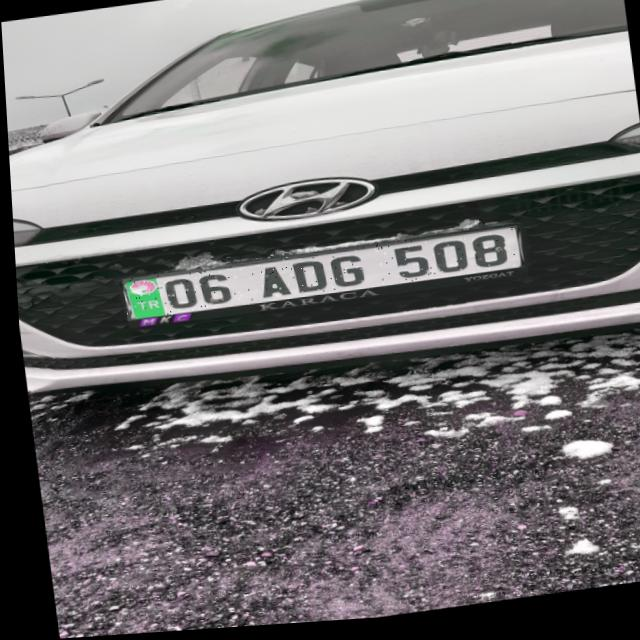license_plate: (117, 232, 519, 322)
